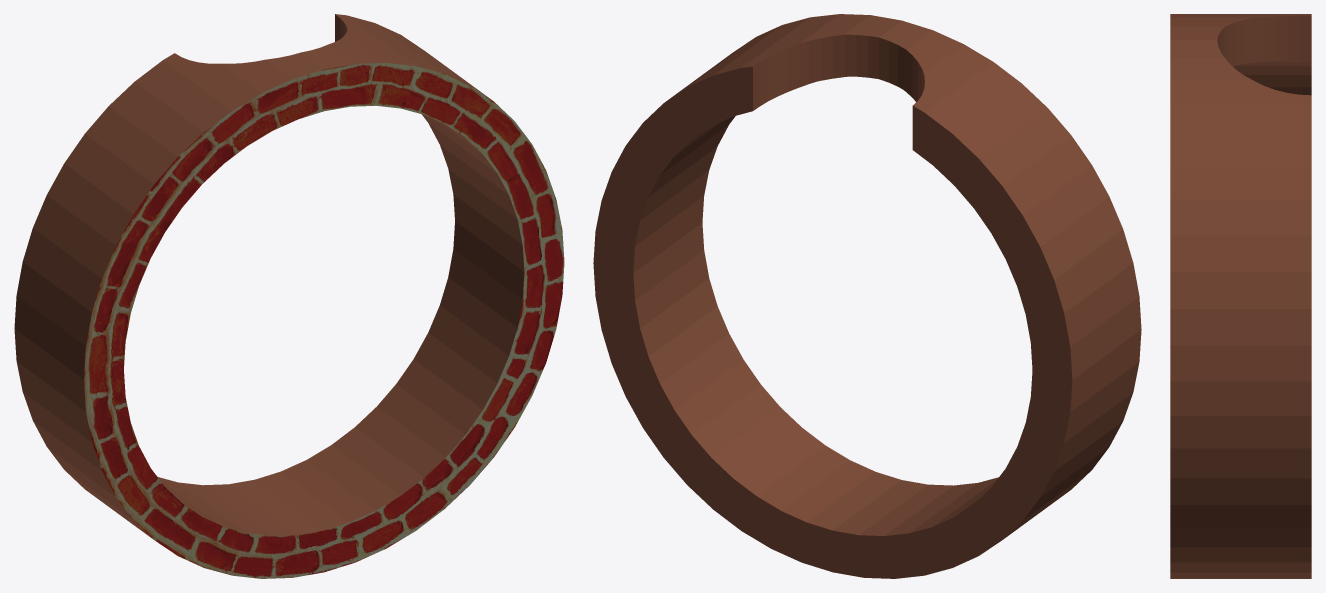
File: pool_072.obj
The picture shows the model from 3 angles, left to right: view 1: azimuth 30°, elevation 25°; view 2: azimuth 150°, elevation 25°; view 3: azimuth 270°, elevation 25°; orthographic projection. The views are drawn at different scales.
Size of the model in its own units: 12 by 12 by 3.
